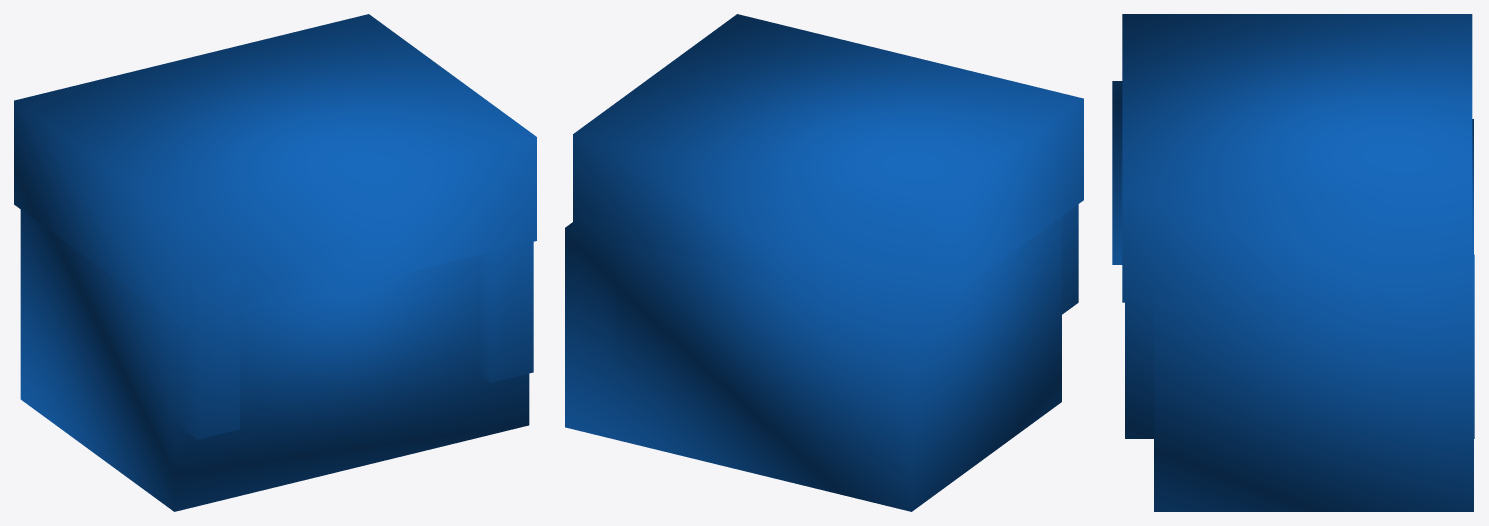
The model's file is ps2_jrpg_treasure_chest.obj.
The picture shows the model from 3 angles, left to right: view 1: azimuth 30°, elevation 25°; view 2: azimuth 150°, elevation 25°; view 3: azimuth 270°, elevation 25°; orthographic projection. The views are drawn at different scales.
Bounding box in the file's own units: 1.02 × 0.8115 × 0.8498.
